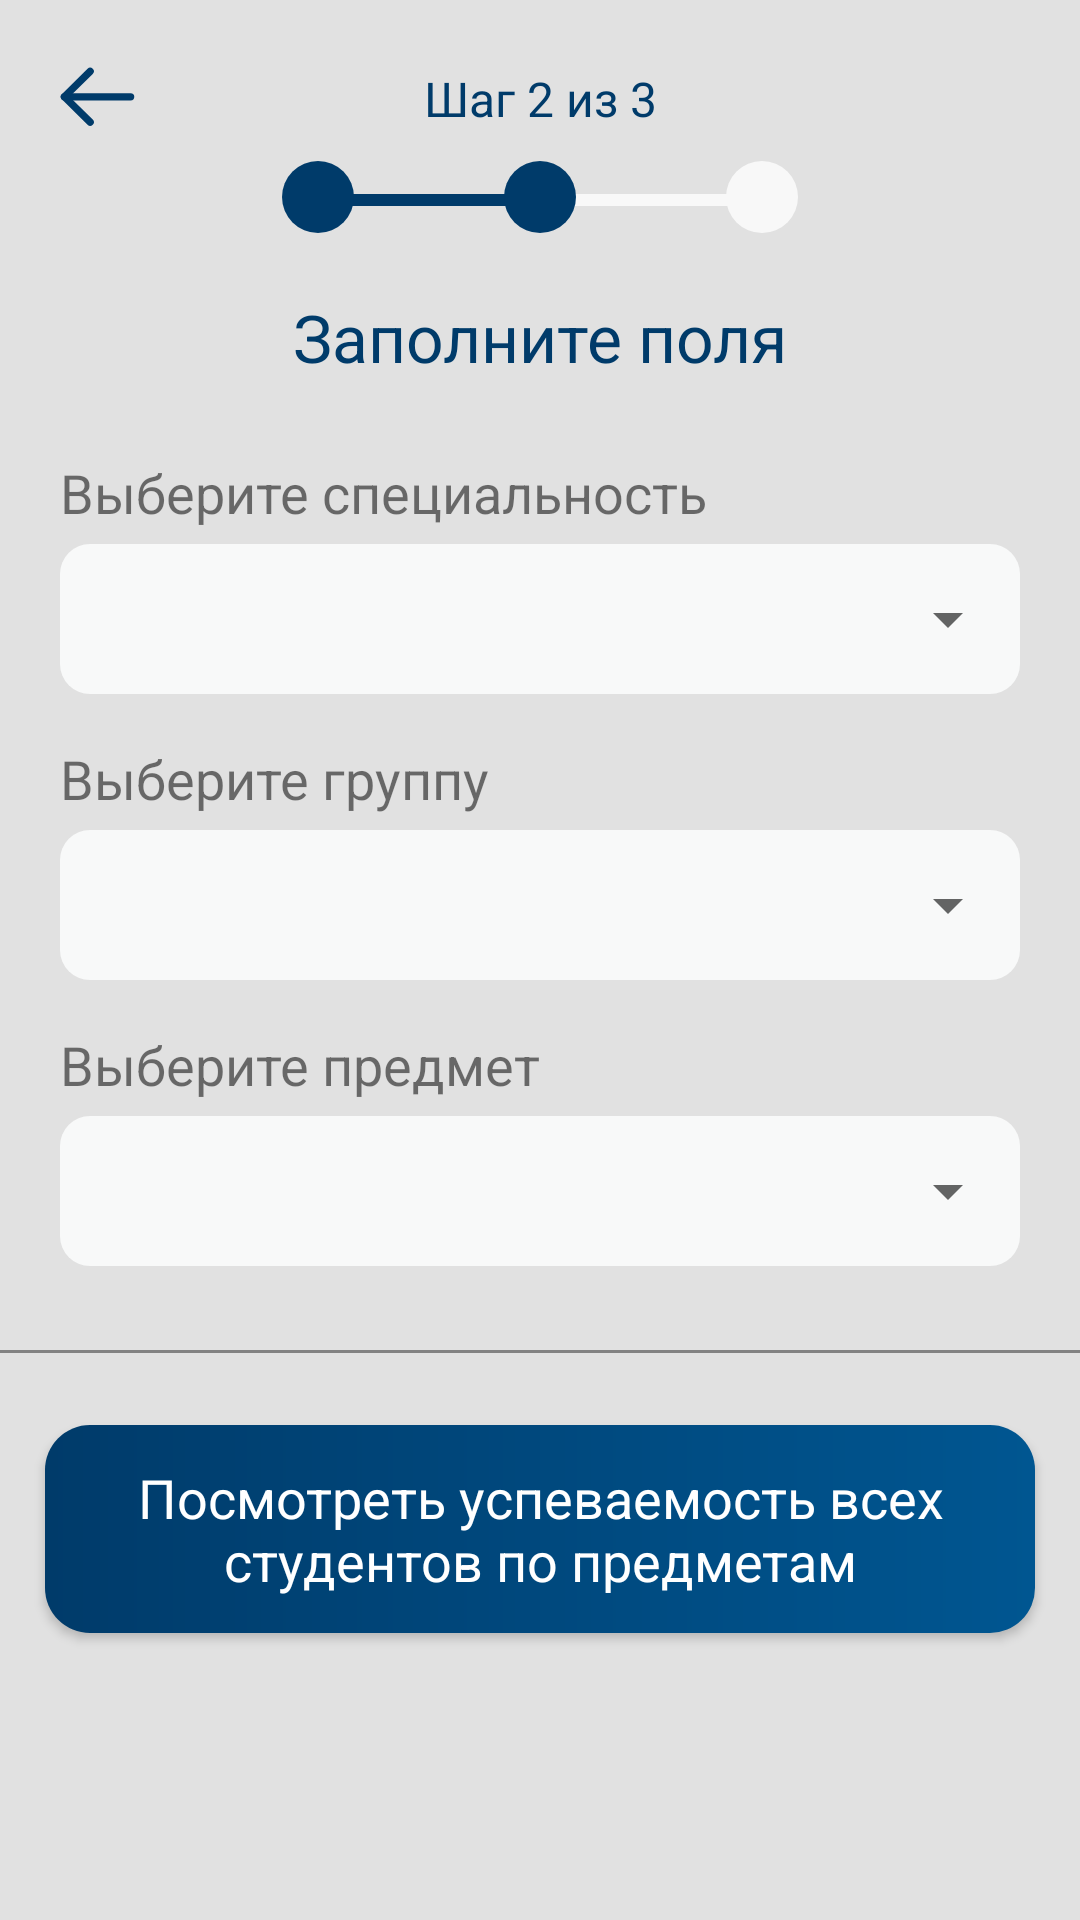

Icon click points for this 1080x1920 phone screenshot, format point (x, y):
back cursor: point (97, 96)
progress circle: point (429, 197)
